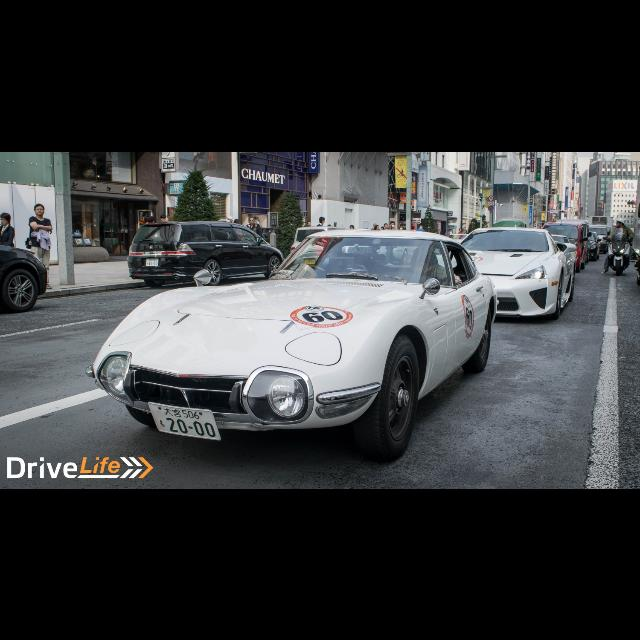head: (0, 213, 12, 225), (34, 203, 46, 215), (616, 218, 626, 228), (250, 216, 254, 224), (450, 228, 452, 232), (460, 228, 462, 232), (464, 230, 468, 232), (446, 230, 449, 232)
person: (24, 202, 54, 290), (600, 217, 634, 275), (1, 212, 18, 282), (244, 216, 264, 260), (445, 228, 451, 246), (458, 228, 464, 246), (448, 228, 454, 245), (462, 229, 468, 245)
